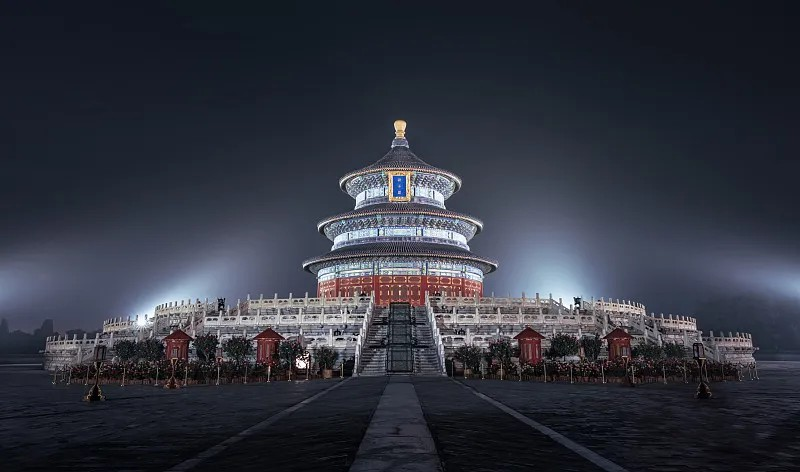Heaven: (303, 118, 498, 305)
